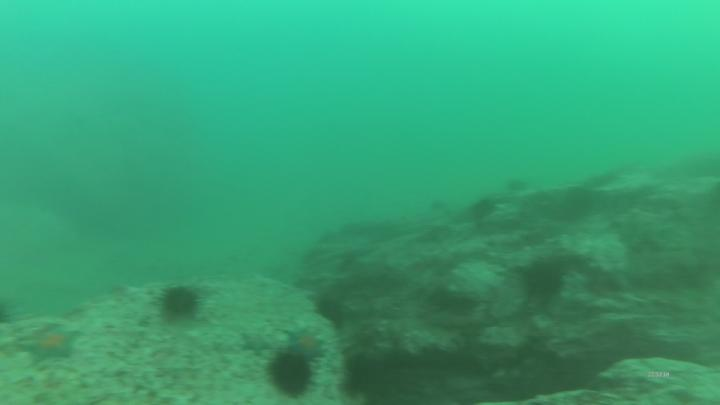echinus: (270, 354, 311, 392), (523, 261, 566, 296), (314, 299, 347, 331), (164, 288, 200, 315), (472, 199, 497, 224)
starfish: (23, 329, 76, 359), (283, 325, 324, 359), (241, 328, 270, 356)
